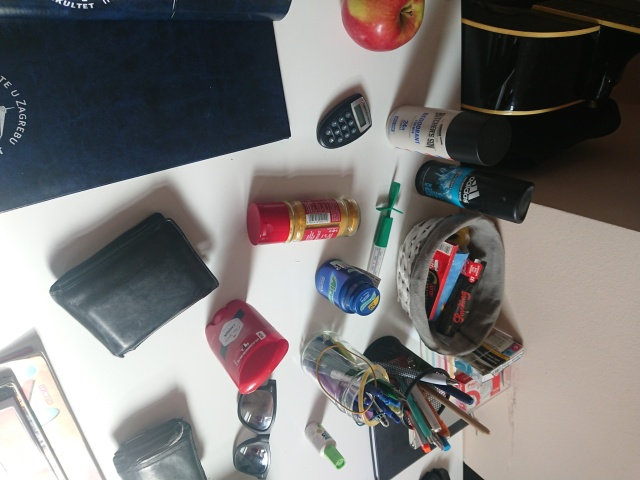Kotanyi Curry Spices Mix 70g: (244, 192, 363, 247)
